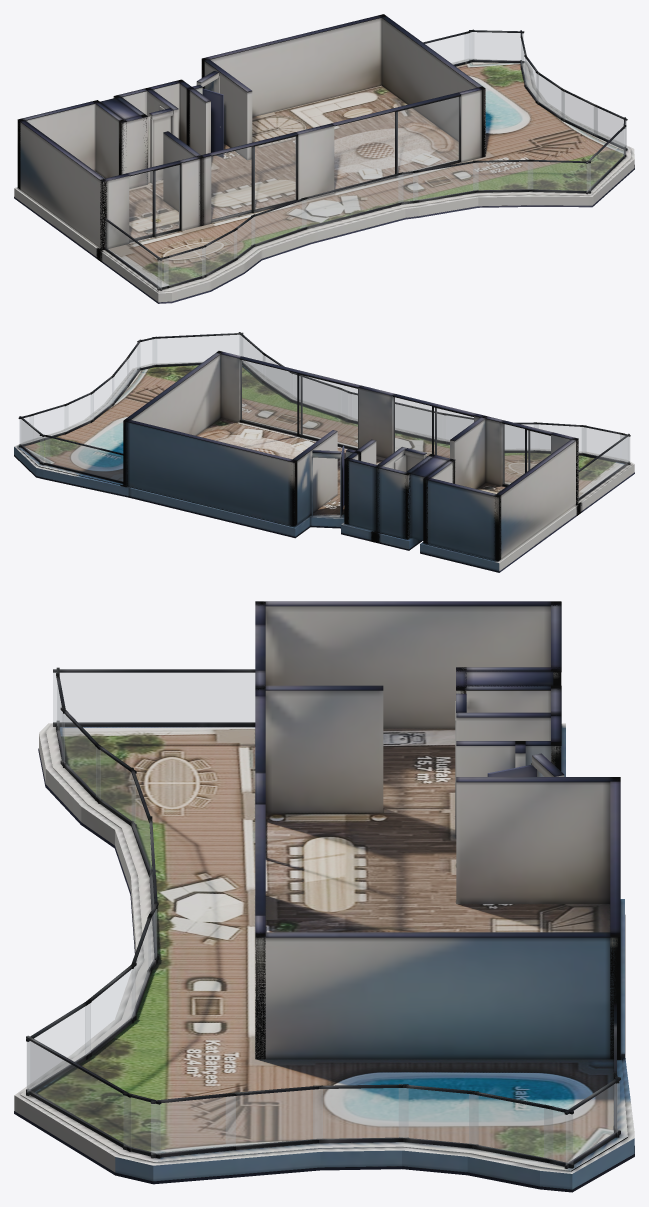
3 views of the same model, one above another, from view 1: azimuth 30°, elevation 25°; view 2: azimuth 150°, elevation 25°; view 3: azimuth 270°, elevation 25° (orthographic). The views are drawn at different scales.
Visible parts, largest first — view 1: plan, glass2_m, glass1_m, glass0_m, railg16_m, railg14_m, railg12_m, railg13_m, railg21_m, railg17_m, railg3_m, railg20_m (+8 smaller); view 2: plan, glass2_m, glass1_m, railg11_m, railg0_m, glass0_m, railg16_m, railg21_m, railg14_m, railg20_m, railg5_m, railg6_m (+9 smaller); view 3: plan, railg21_m, railg11_m, railg8_m, railg7_m, railg9_m, railg5_m, railg6_m, railg12_m, railg3_m, railg13_m, railg19_m (+5 smaller).
Part boxes in pixels (x1=…): plan: x1=14, y1=14, x2=634, y2=303; glass2_m: x1=334, y1=97, x2=458, y2=189; glass1_m: x1=211, y1=137, x2=295, y2=220; glass0_m: x1=129, y1=165, x2=179, y2=239; railg16_m: x1=302, y1=175, x2=402, y2=227; railg14_m: x1=413, y1=163, x2=477, y2=200; railg12_m: x1=528, y1=162, x2=590, y2=190; railg13_m: x1=473, y1=162, x2=532, y2=190; railg21_m: x1=105, y1=220, x2=161, y2=288; railg17_m: x1=252, y1=200, x2=306, y2=244; railg3_m: x1=470, y1=32, x2=523, y2=60; railg20_m: x1=164, y1=247, x2=205, y2=286; plan: x1=14, y1=332, x2=634, y2=572; glass2_m: x1=240, y1=360, x2=357, y2=448; glass1_m: x1=393, y1=397, x2=473, y2=457; railg11_m: x1=153, y1=335, x2=242, y2=364; railg0_m: x1=45, y1=437, x2=122, y2=481; glass0_m: x1=503, y1=424, x2=550, y2=484; railg16_m: x1=348, y1=393, x2=445, y2=441; railg21_m: x1=579, y1=437, x2=628, y2=497; railg14_m: x1=290, y1=373, x2=337, y2=414; railg20_m: x1=582, y1=427, x2=624, y2=459; railg5_m: x1=29, y1=405, x2=68, y2=440; railg6_m: x1=65, y1=393, x2=93, y2=431; plan: x1=14, y1=601, x2=634, y2=1192; railg21_m: x1=53, y1=673, x2=254, y2=722; railg11_m: x1=27, y1=1041, x2=130, y2=1147; railg8_m: x1=226, y1=1089, x2=322, y2=1146; railg7_m: x1=313, y1=1088, x2=407, y2=1139; railg9_m: x1=151, y1=1096, x2=235, y2=1154; railg5_m: x1=469, y1=1094, x2=552, y2=1159; railg6_m: x1=399, y1=1088, x2=477, y2=1144; railg12_m: x1=27, y1=1003, x2=90, y2=1091; railg3_m: x1=566, y1=1081, x2=619, y2=1164; railg13_m: x1=85, y1=967, x2=135, y2=1055; railg19_m: x1=62, y1=712, x2=100, y2=799.
Size of the model in its own units: 17.84 by 2.62 by 10.38.
Materials: 2 (1 with a texture image).
